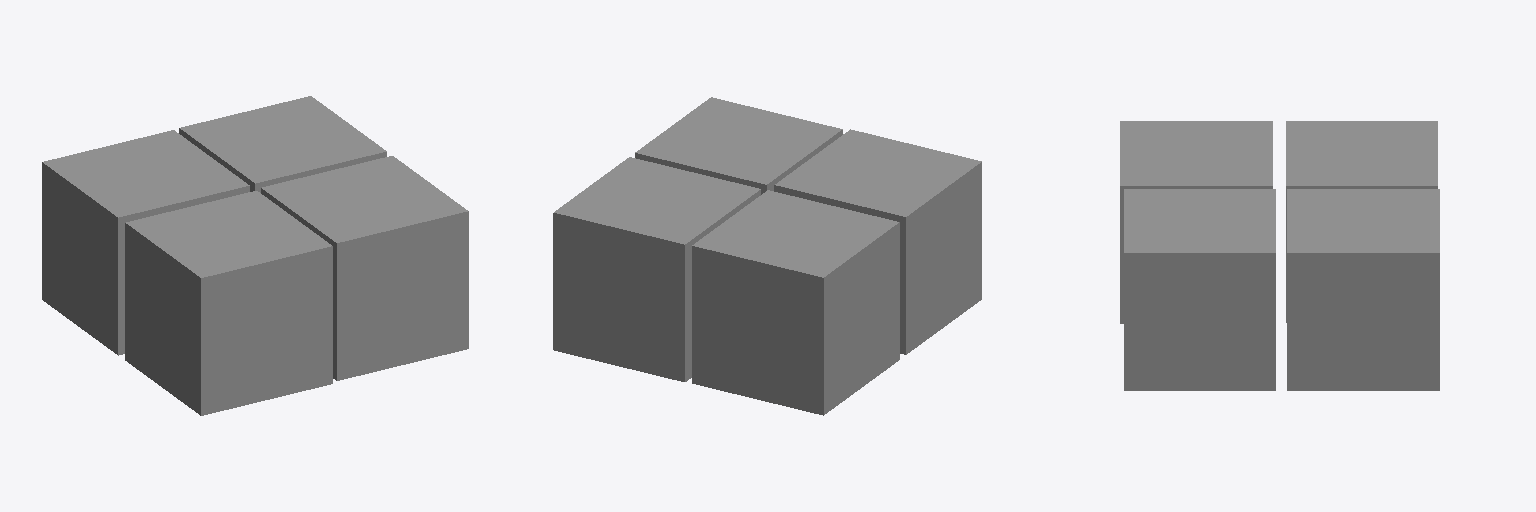
File: boxes.obj
3 views of the same model, side by side, from view 1: azimuth 30°, elevation 25°; view 2: azimuth 150°, elevation 25°; view 3: azimuth 270°, elevation 25° (orthographic).
Parts seen in each view (by area): view 1: Boxes_Cube.011; view 2: Boxes_Cube.011; view 3: Boxes_Cube.011.
Part boxes in pixels (x1,y1,x2,y2): Boxes_Cube.011: (42, 96, 468, 415); Boxes_Cube.011: (553, 97, 981, 415); Boxes_Cube.011: (1120, 121, 1439, 390).
Size of the model in its own units: 5.42 by 2.65 by 5.56.